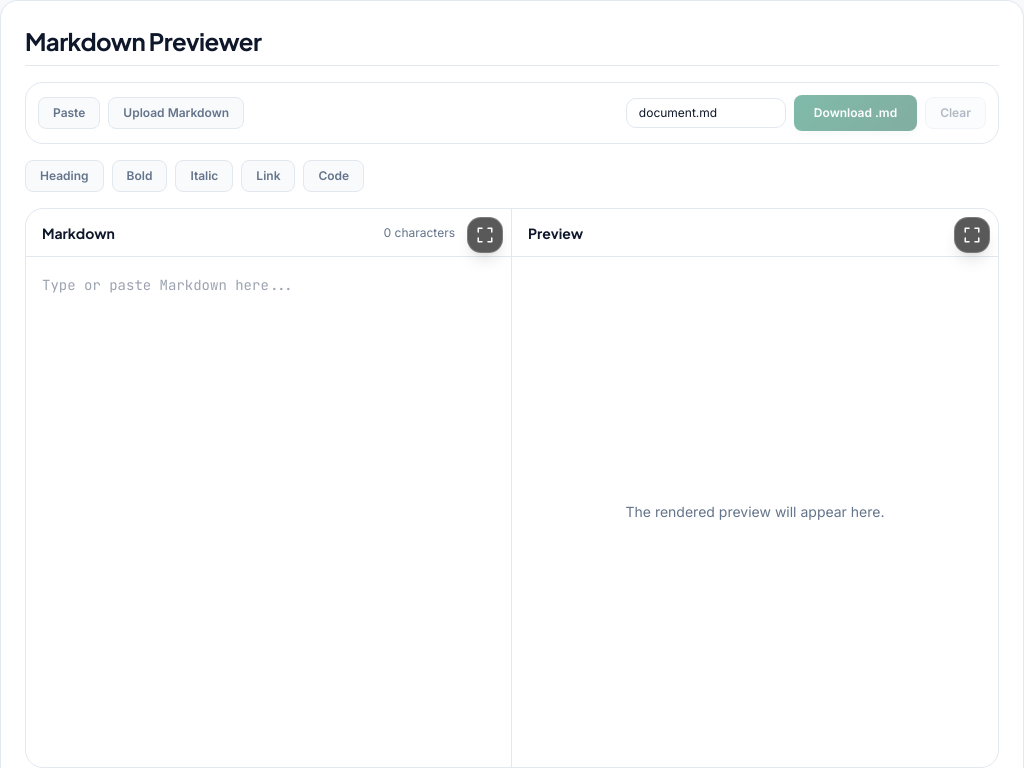
Test: Markdown Previewer issue 42 › renders highlighted fenced code with normalized language metadata
The image size is (1024, 768).
What coordinates should you click on to do the following:
click the button "Paste"
I would click on:
 (69, 113)
Its box is [38,97,100,129].
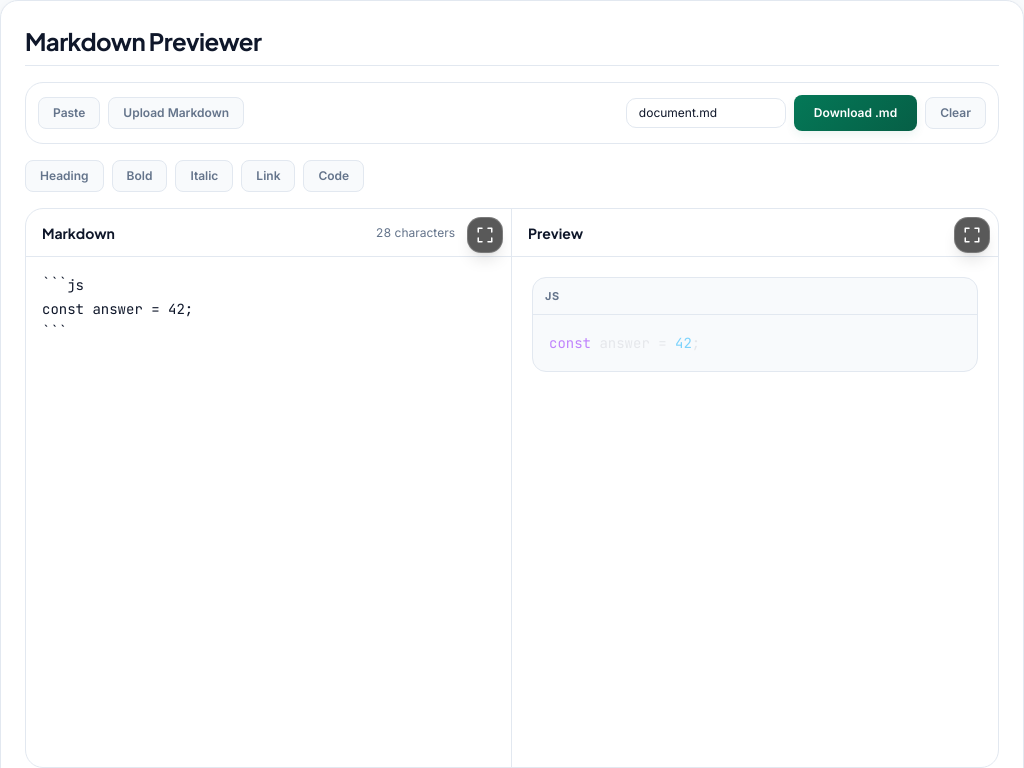
Result: the element showing "const answer = 42;" is shown at [549,334,700,352]
Result: the text with class "hljs-keyword" reads "const" at [549,334,591,352]
